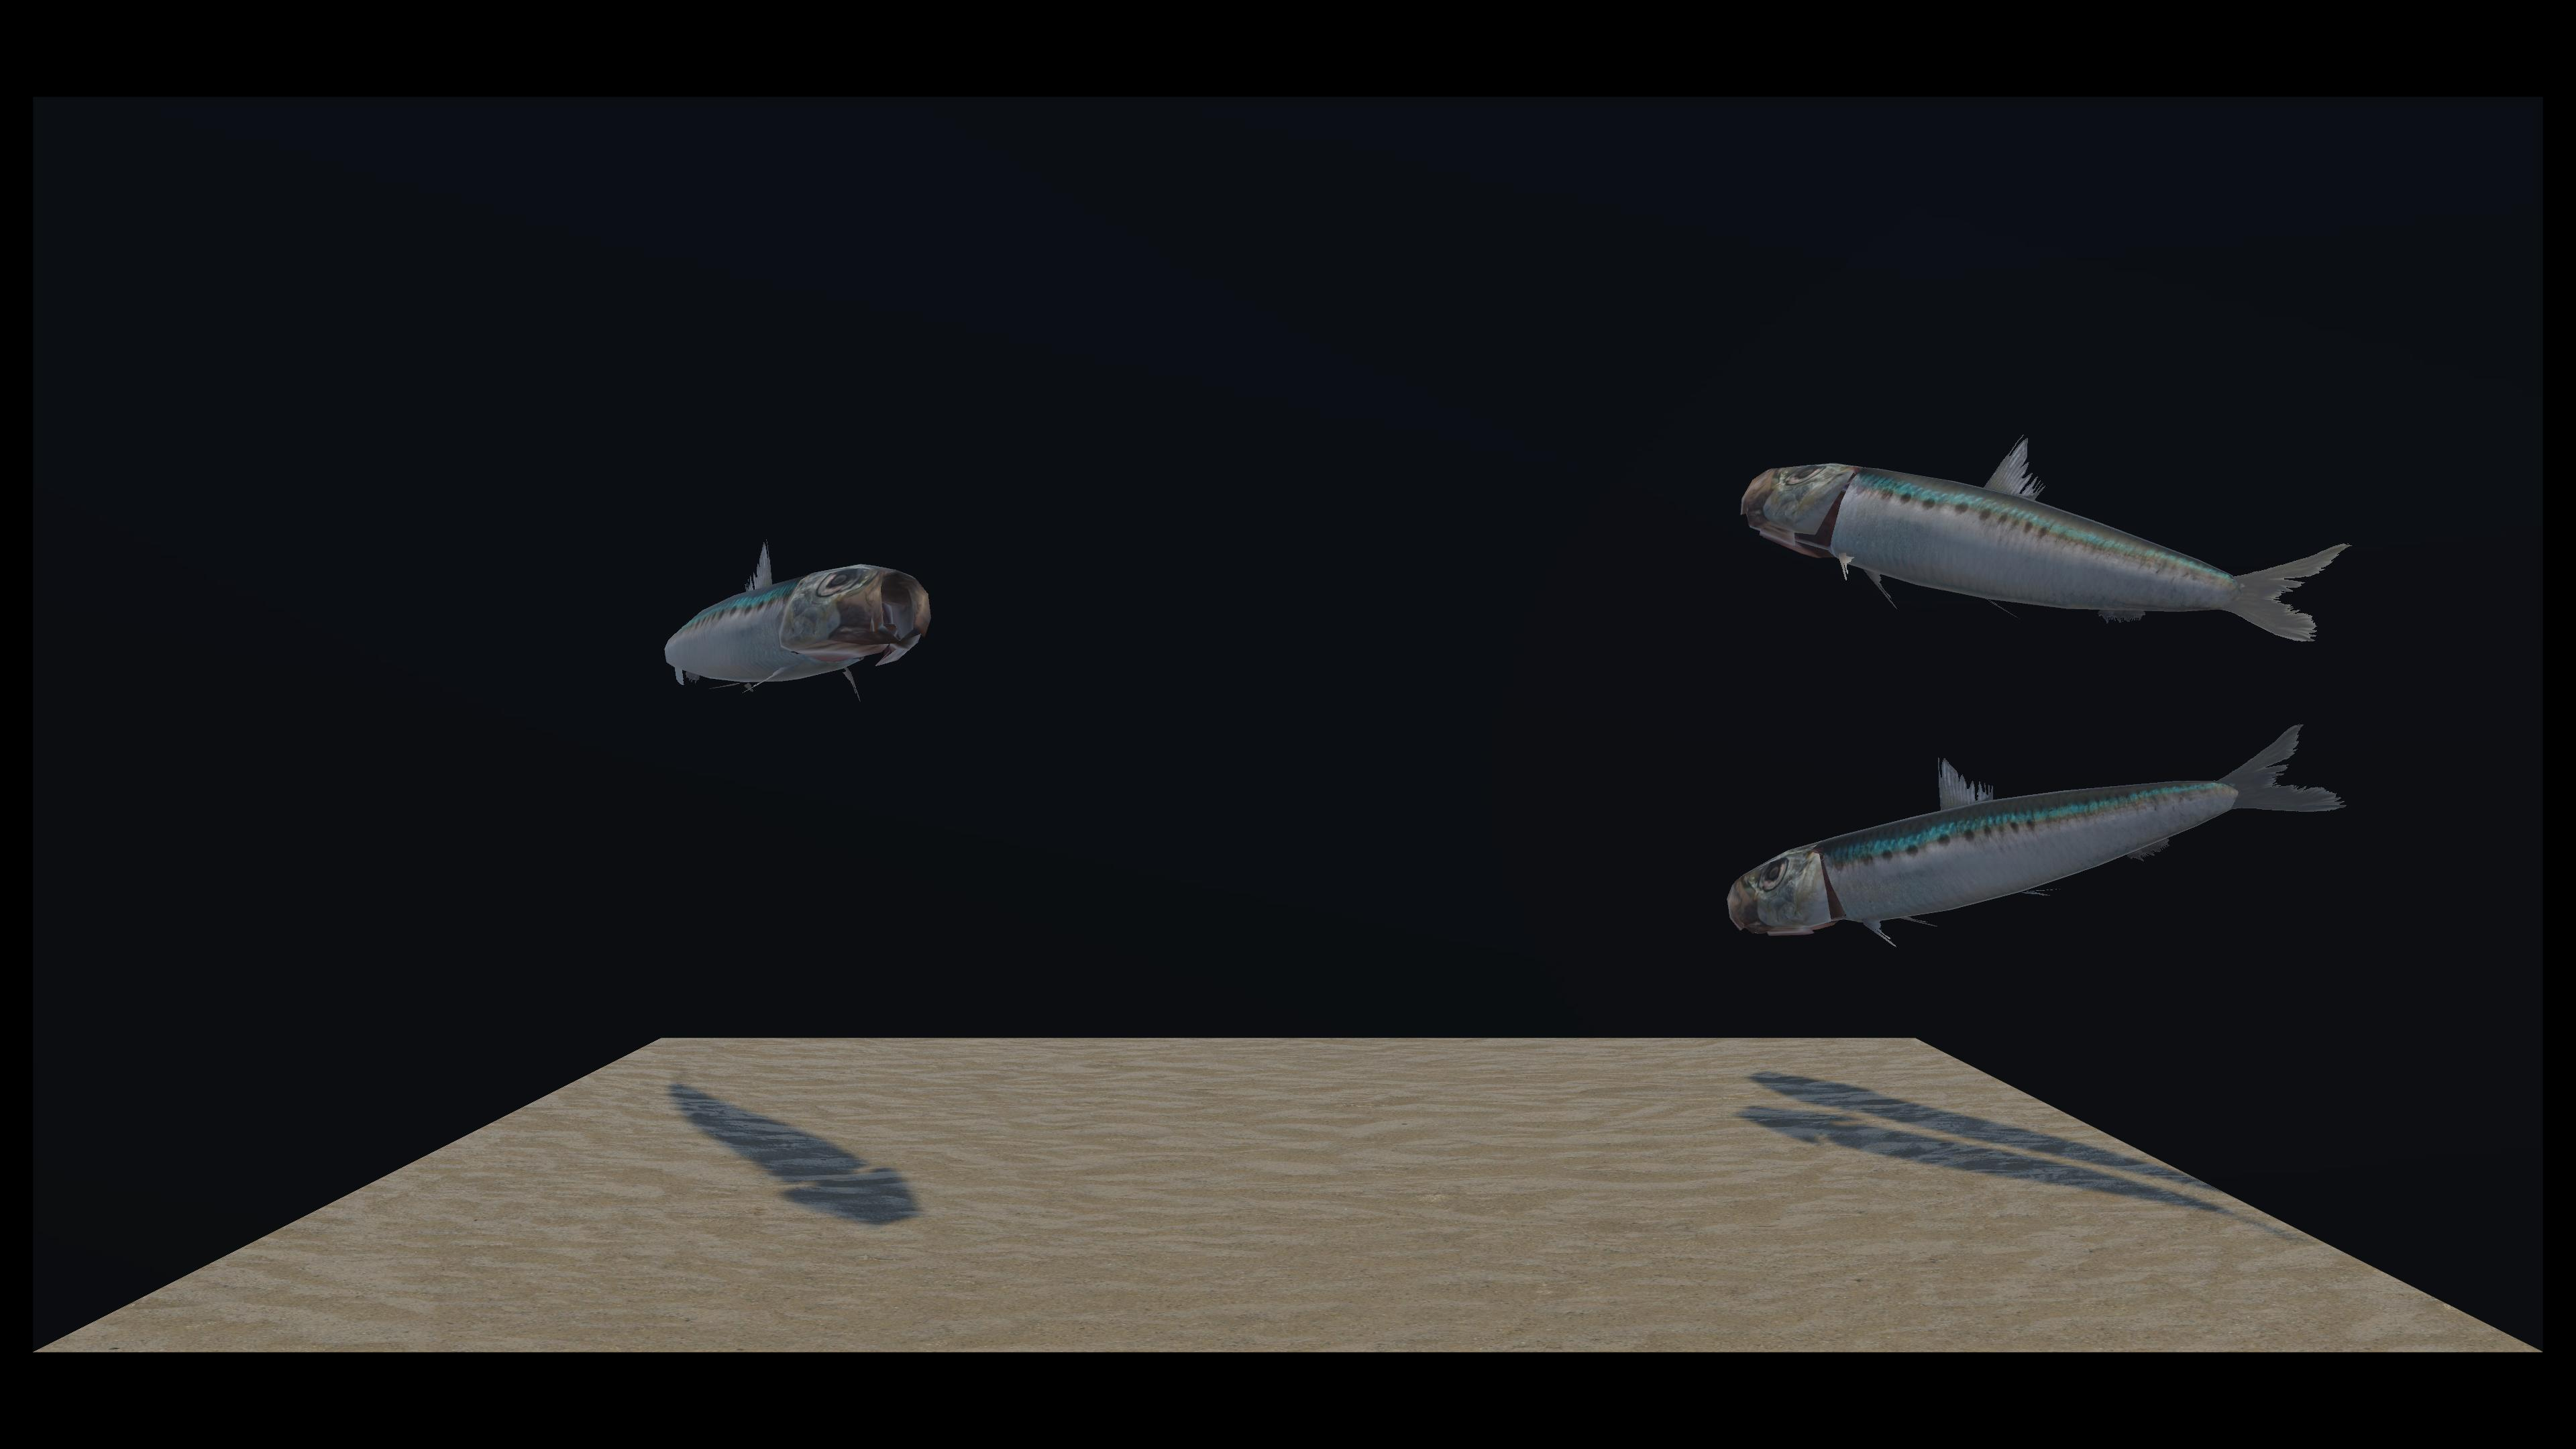Sardine_Front: (952, 455, 2346, 955), (922, 449, 2342, 640), (633, 313, 925, 711)
